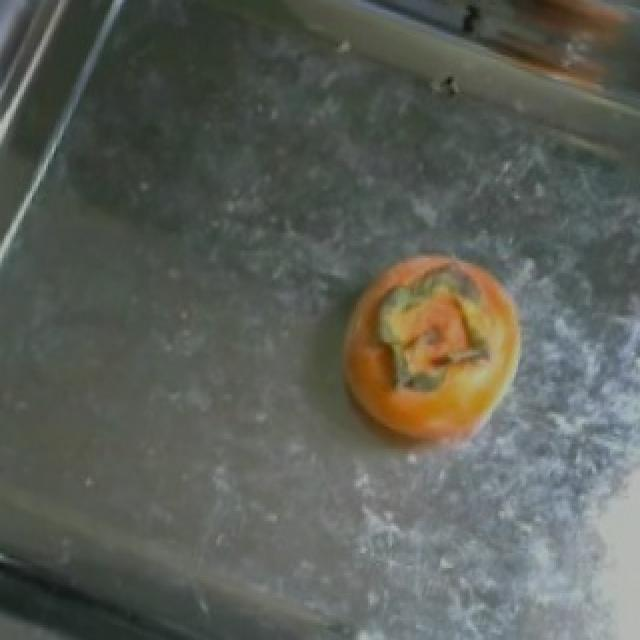Fruit: (322, 236, 538, 474)
